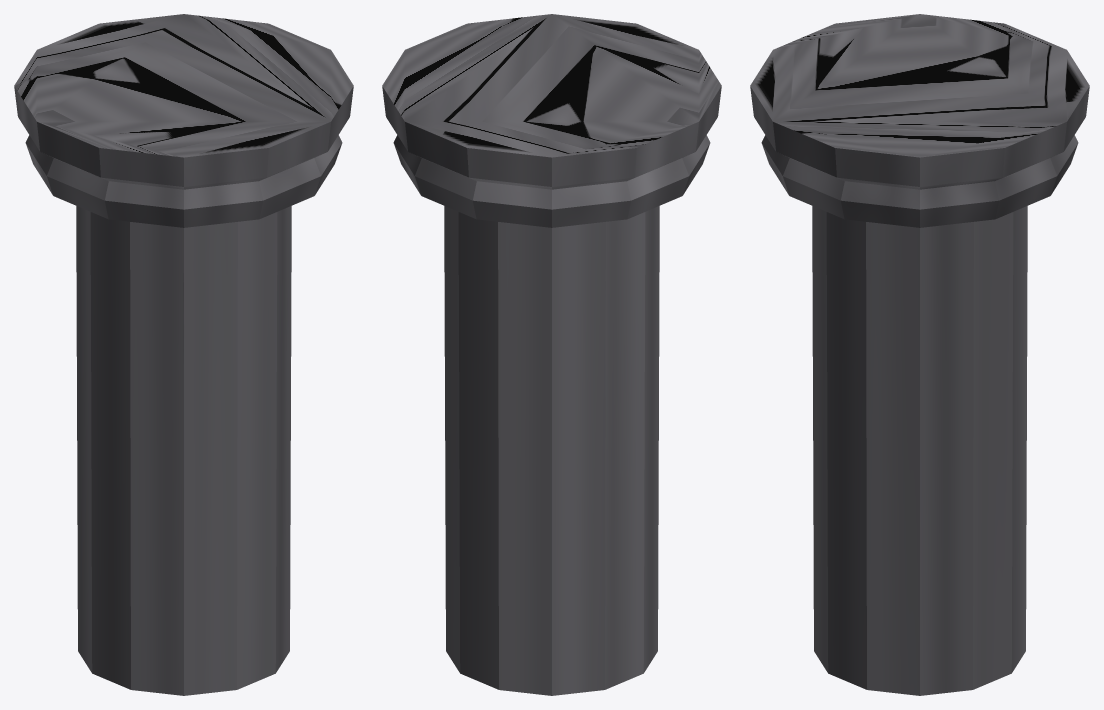
Rendered from pillartop.gltf.
The picture shows the model from 3 angles, left to right: view 1: azimuth 30°, elevation 25°; view 2: azimuth 150°, elevation 25°; view 3: azimuth 270°, elevation 25°; orthographic projection.
Visible parts, largest first — view 1: Plane; view 2: Plane; view 3: Plane.
Boxes of the visible parts, bbox=[...] form: Plane: bbox=[14, 14, 353, 695]; Plane: bbox=[382, 14, 721, 695]; Plane: bbox=[750, 14, 1089, 695].
Size of the model in its own units: 1.09 by 2 by 1.09.
Materials: 1 (1 with a texture image).
